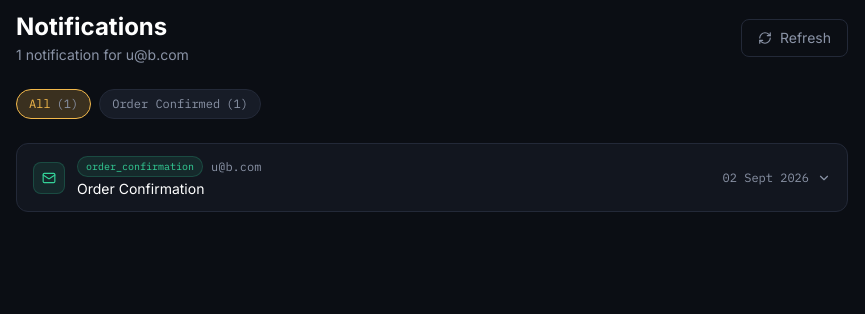
Test case: NotificationsPage — Expand row › expands notification body on click
Click the text "Order Confirmation": (141, 188) [77,180,204,197]
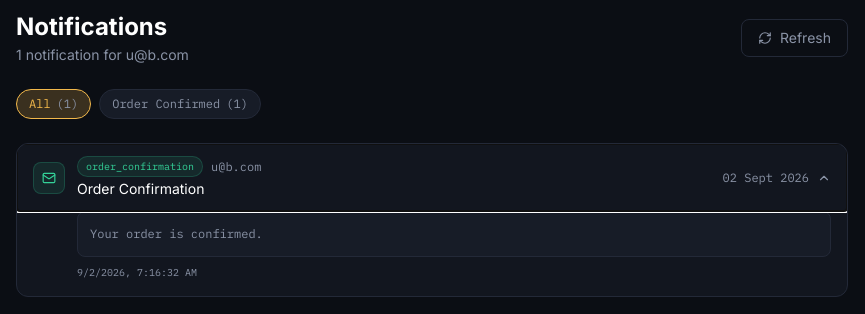
Check: the text "Your order is confirmed." is shown, box [77,211,831,256]
